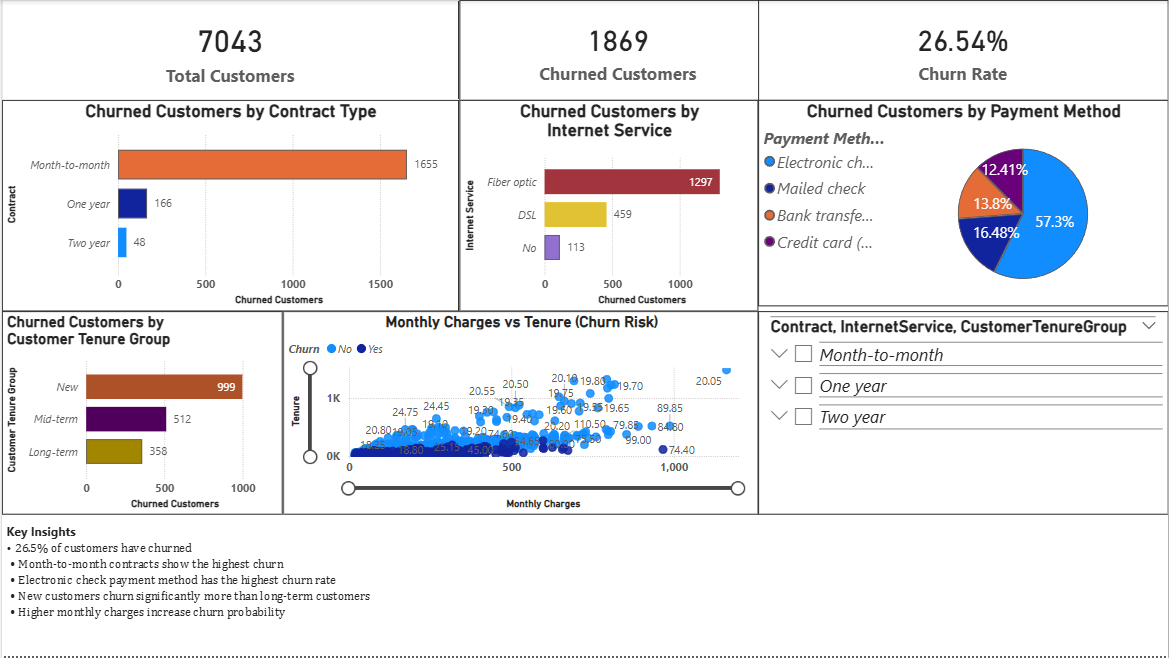

What the dashboard file says about the page in this screenshot:
{"tool":"powerbi","page":{"name":"Page 1","canvas":[1280,720],"ordinal":0},"visuals":[{"type":"card","fields":{"Values":["Telco-Customer-Churn.Total Customers"]},"box":[0,0,501.7,110],"z":0},{"type":"card","fields":{"Values":["Telco-Customer-Churn.Churned Customers"]},"box":[501.7,0,348.3,110],"z":1},{"type":"card","fields":{"Values":["Telco-Customer-Churn.Churn Rate"]},"box":[830,0,450,110],"z":2},{"type":"clusteredBarChart","title":"Churned Customers by Contract Type","fields":{"Category":["Telco-Customer-Churn.Contract"],"Y":["Telco-Customer-Churn.Churned Customers"]},"box":[0,110,501.7,231.7],"z":3},{"type":"clusteredBarChart","title":"Churned Customers by Internet Service","fields":{"Category":["Telco-Customer-Churn.InternetService"],"Y":["Telco-Customer-Churn.Churned Customers"]},"box":[501.7,110,328.3,231.7],"z":4},{"type":"clusteredBarChart","title":"Churned Customers by Customer Tenure Group","fields":{"Category":["Telco-Customer-Churn.CustomerTenureGroup"],"Y":["Telco-Customer-Churn.Churned Customers"]},"box":[0,341.7,308.3,223.3],"z":5},{"type":"scatterChart","title":"Monthly Charges vs Tenure (Churn Risk)","fields":{"Category":["Telco-Customer-Churn.MonthlyCharges"],"X":["Sum(Telco-Customer-Churn.MonthlyCharges)"],"Y":["Sum(Telco-Customer-Churn.Tenure)"],"Series":["Telco-Customer-Churn.Churn"]},"box":[308.3,341.7,521.7,223.3],"z":6},{"type":"pieChart","title":"Churned Customers by Payment Method","fields":{"Category":["Telco-Customer-Churn.PaymentMethod"],"Y":["Telco-Customer-Churn.Churned Customers"]},"box":[830,110,450,226.7],"z":7},{"type":"slicer","fields":{"Values":["Telco-Customer-Churn.Contract","Telco-Customer-Churn.InternetService","Telco-Customer-Churn.CustomerTenureGroup"]},"box":[830,341.7,450,223.3],"z":8},{"type":"textbox","box":[0,570,420,150],"z":9}]}

Visuals, with their boxes in screenshot pixels (x1, y1, x2, y2), scaled from the page's 1280x720 canvas onto the 1169x658 screenshot:
card - Telco-Customer-Churn.Total Customers: detection(0, 0, 458, 101)
card - Telco-Customer-Churn.Churned Customers: detection(458, 0, 776, 101)
card - Telco-Customer-Churn.Churn Rate: detection(758, 0, 1168, 101)
"Churned Customers by Contract Type" clusteredBarChart: detection(0, 101, 458, 312)
"Churned Customers by Internet Service" clusteredBarChart: detection(458, 101, 758, 312)
"Churned Customers by Customer Tenure Group" clusteredBarChart: detection(0, 312, 282, 516)
"Monthly Charges vs Tenure (Churn Risk)" scatterChart: detection(282, 312, 758, 516)
"Churned Customers by Payment Method" pieChart: detection(758, 101, 1168, 308)
slicer - Telco-Customer-Churn.Contract x Telco-Customer-Churn.InternetService: detection(758, 312, 1168, 516)
textbox: detection(0, 521, 384, 657)
